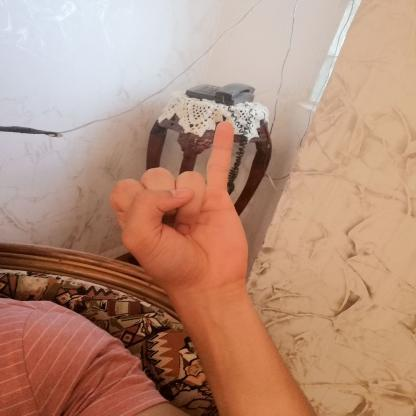MEEM: (87, 111, 275, 301)
